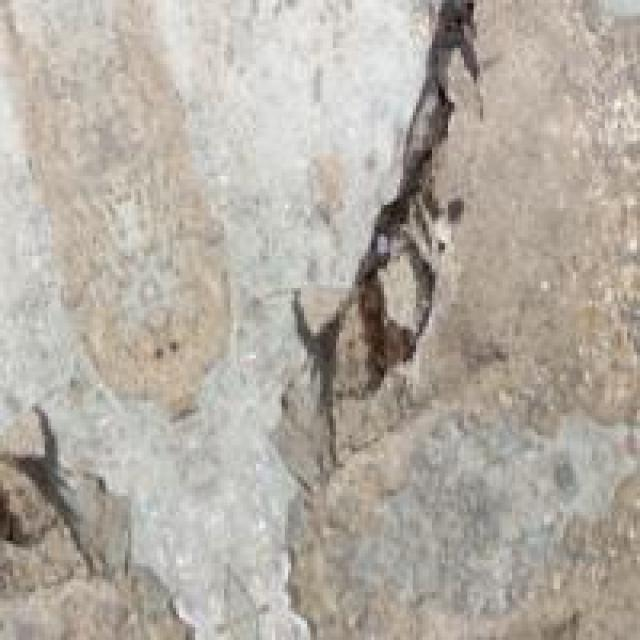crack: (240, 3, 499, 474)
